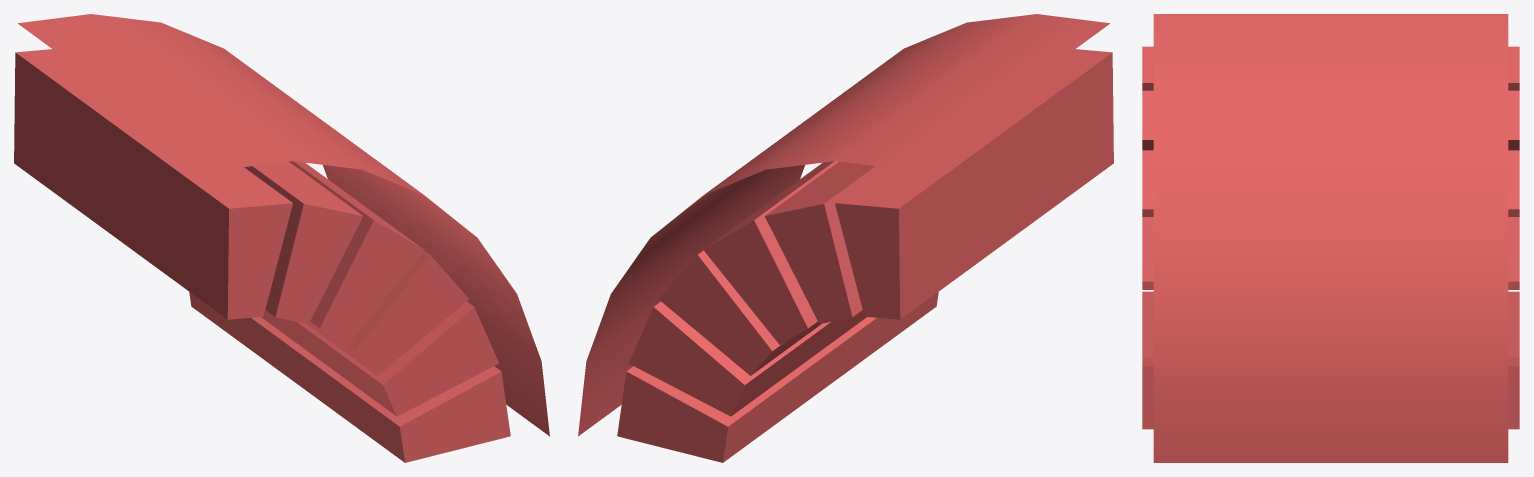
Rendered from Curve1Color_New.fbx.
The picture shows the model from 3 angles, left to right: view 1: azimuth 30°, elevation 25°; view 2: azimuth 150°, elevation 25°; view 3: azimuth 270°, elevation 25°; orthographic projection. The views are drawn at different scales.
Visible parts, largest first — view 1: polySurface483; view 2: polySurface483; view 3: polySurface483.
Boxes of the visible parts, left/top/right/bottom form: polySurface483: left=14, top=14, right=549, bottom=462; polySurface483: left=578, top=14, right=1113, bottom=462; polySurface483: left=1142, top=14, right=1519, bottom=462.
Size of the model in its own units: 0.9141 by 0.9141 by 1.02.
